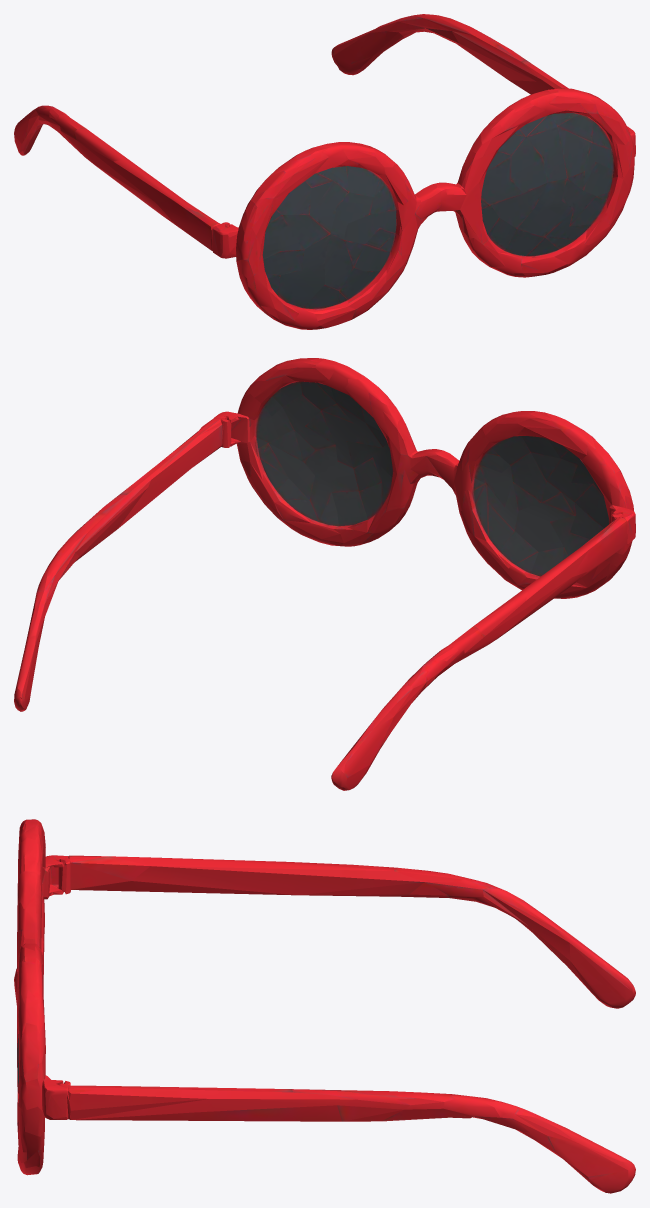
The model's file is sunglasses.glb.
3 renders of one model, top to bottom at view 1: azimuth 30°, elevation 25°; view 2: azimuth 150°, elevation 25°; view 3: azimuth 270°, elevation 25°, orthographic. The views are drawn at different scales.
Parts seen in each view (by area): view 1: Mesh_0; view 2: Mesh_0; view 3: Mesh_0.
Boxes of the visible parts, x1,y1,x2,y2 form: Mesh_0: [14, 14, 635, 329]; Mesh_0: [14, 358, 635, 790]; Mesh_0: [14, 819, 635, 1193].
Bounding box in the file's own units: 0.15 × 0.062 × 0.1665.
Materials: 1 (1 with a texture image).
